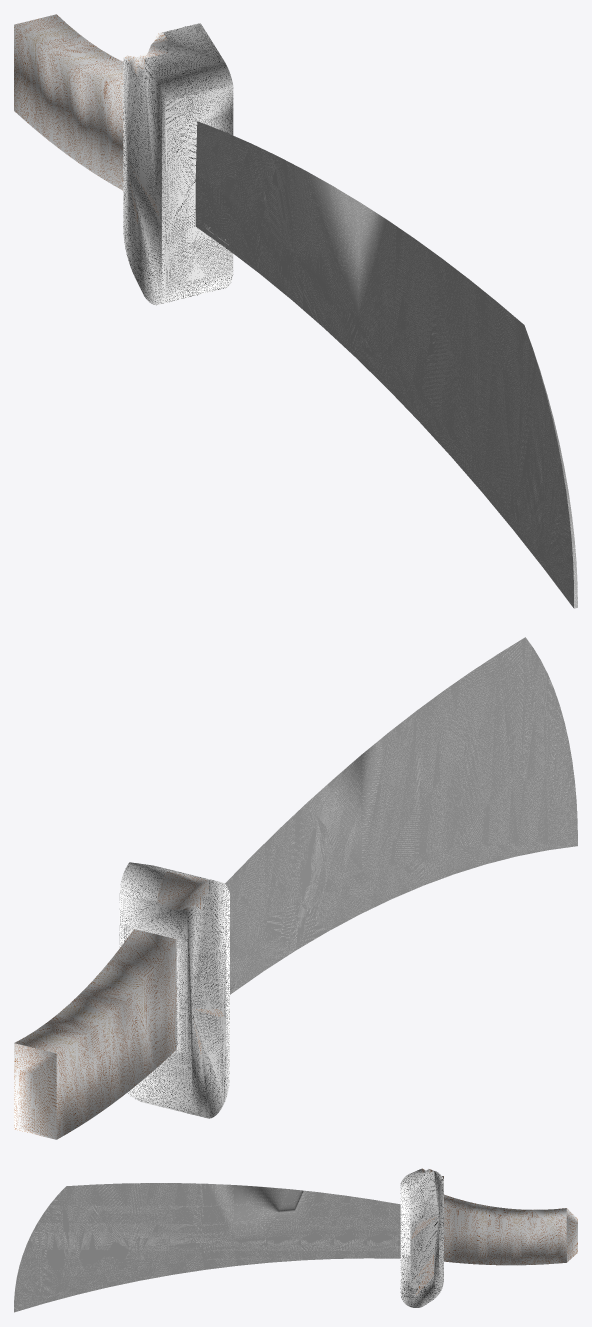
File: model_align.obj
The picture shows the model from 3 angles, top to bottom: view 1: azimuth 30°, elevation 25°; view 2: azimuth 150°, elevation 25°; view 3: azimuth 270°, elevation 25°; orthographic projection. The views are drawn at different scales.
Parts seen in each view (by area): view 1: mesh1_mesh1-geometry; view 2: mesh1_mesh1-geometry; view 3: mesh1_mesh1-geometry.
Part boxes in pixels (bbox=[...]): mesh1_mesh1-geometry: bbox=[14, 14, 577, 608]; mesh1_mesh1-geometry: bbox=[14, 637, 577, 1139]; mesh1_mesh1-geometry: bbox=[14, 1168, 577, 1312].
Bounding box in the file's own units: 0.0163 × 0.0631 × 0.2291.
